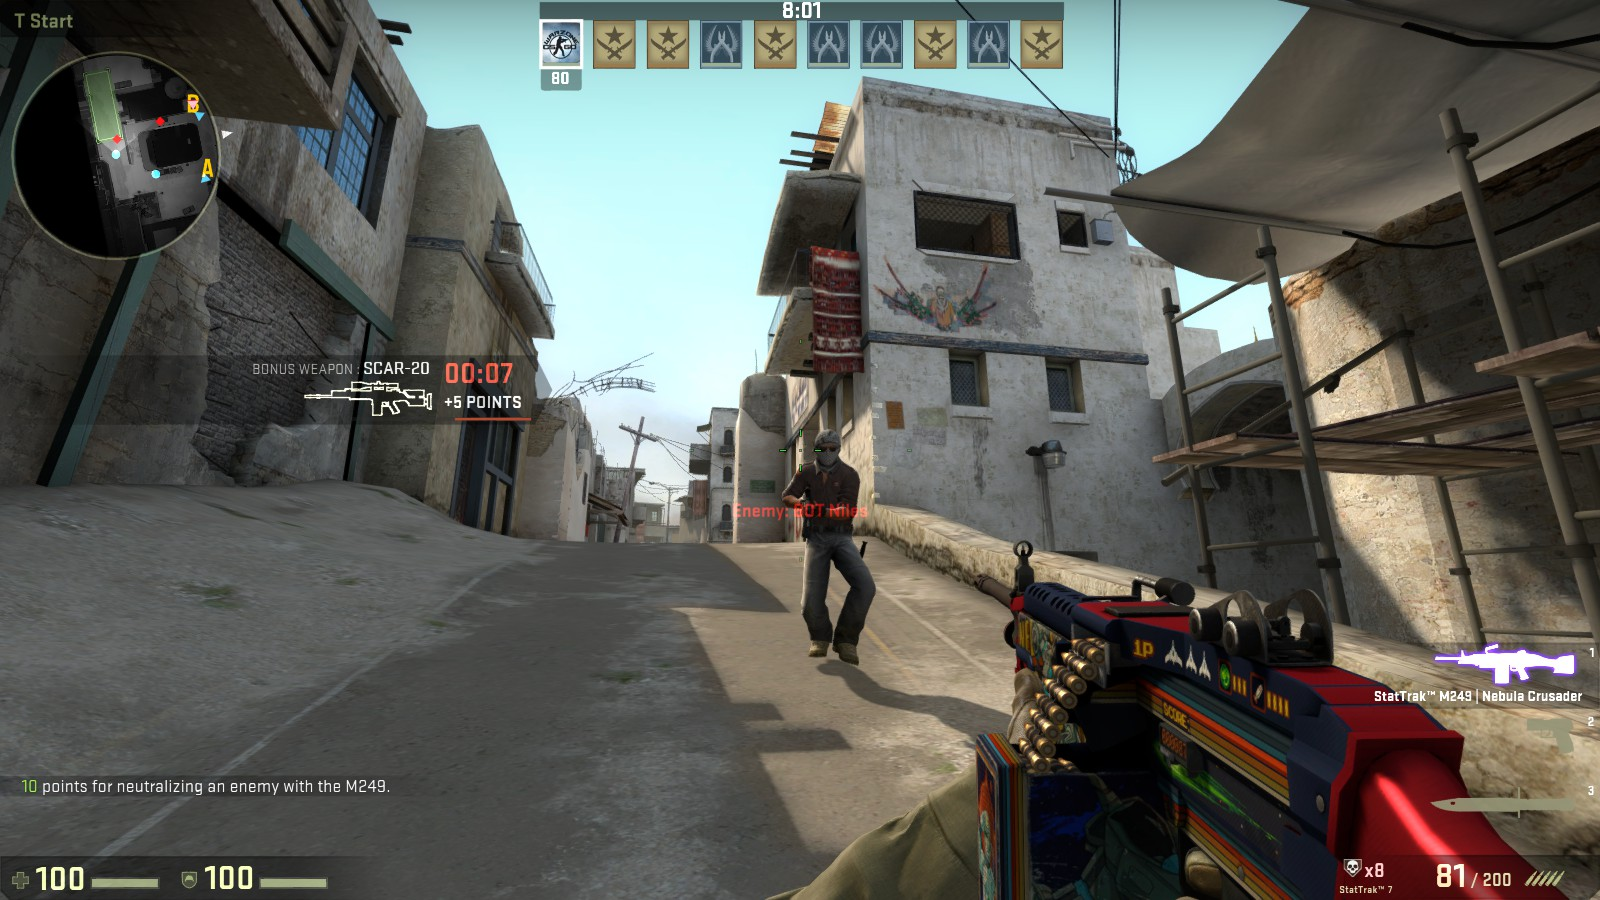t: (786, 427, 874, 667)
th: (811, 425, 851, 473)
